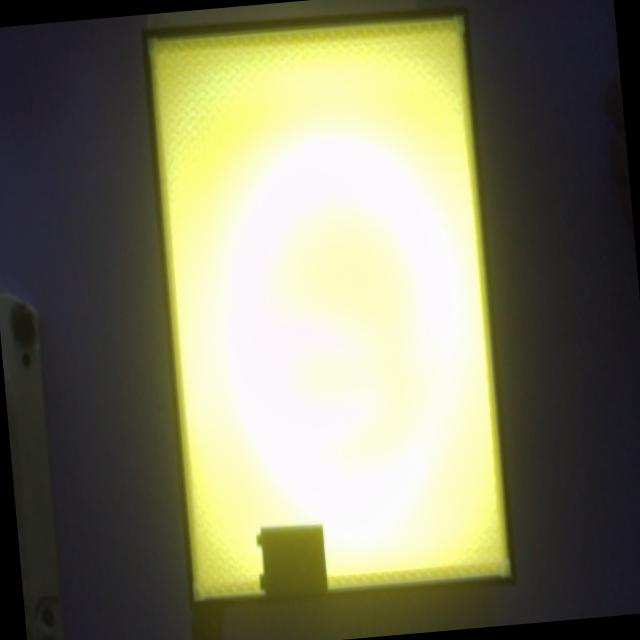bateria: (256, 526, 329, 598)
mesa: (142, 7, 516, 611)
